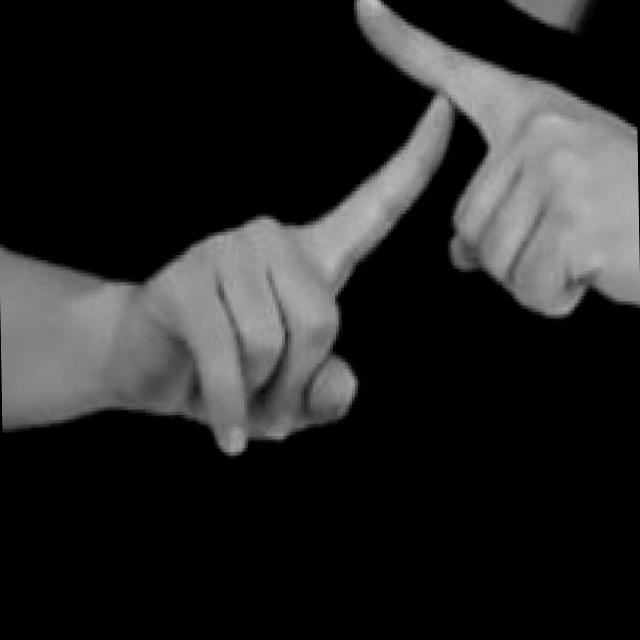T: (122, 0, 640, 462)
